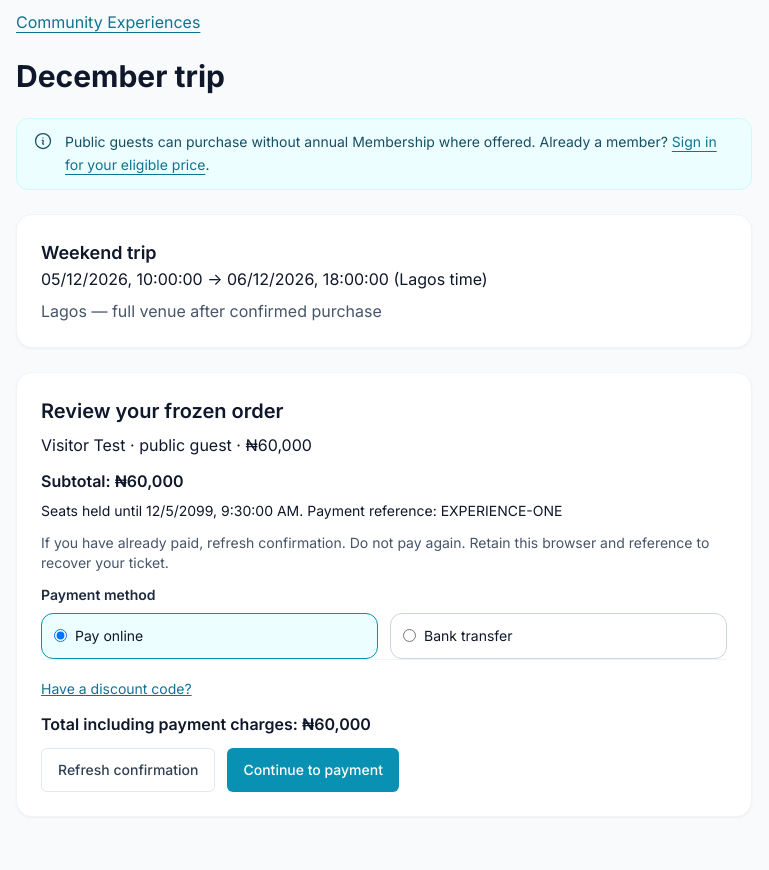
Experience ticket checkout › offers bank transfer and sends that method with the reviewed amount
The width and height of the screenshot is (769, 870).
Click the radio button labelled "Bank transfer" at (410, 636), box 403,629 -> 416,642
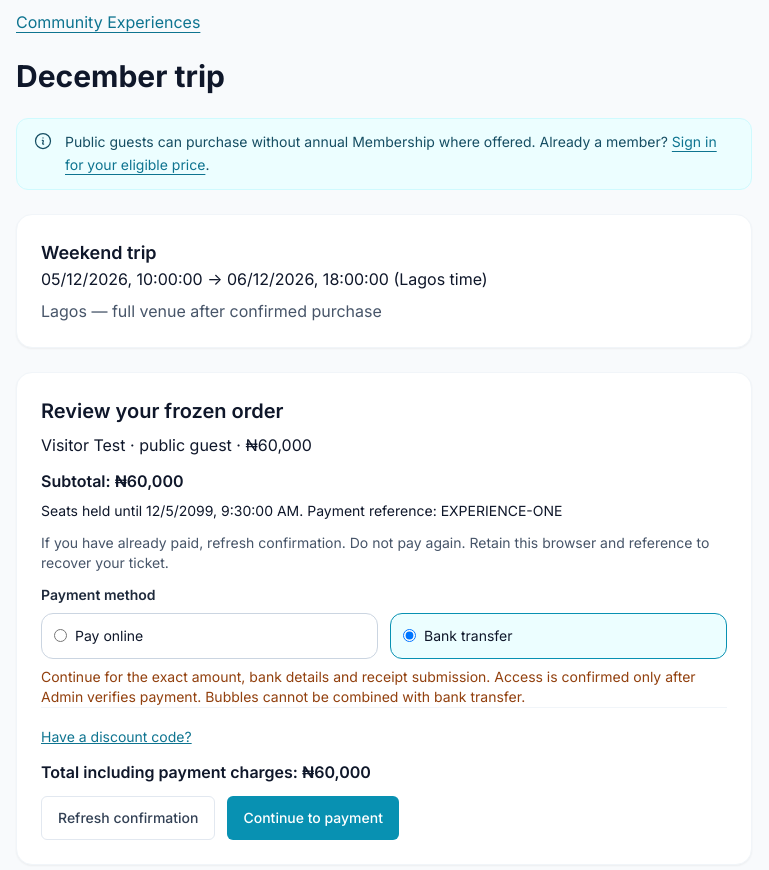
Click the button "Continue to payment" at (313, 818), box 228,796 -> 399,840
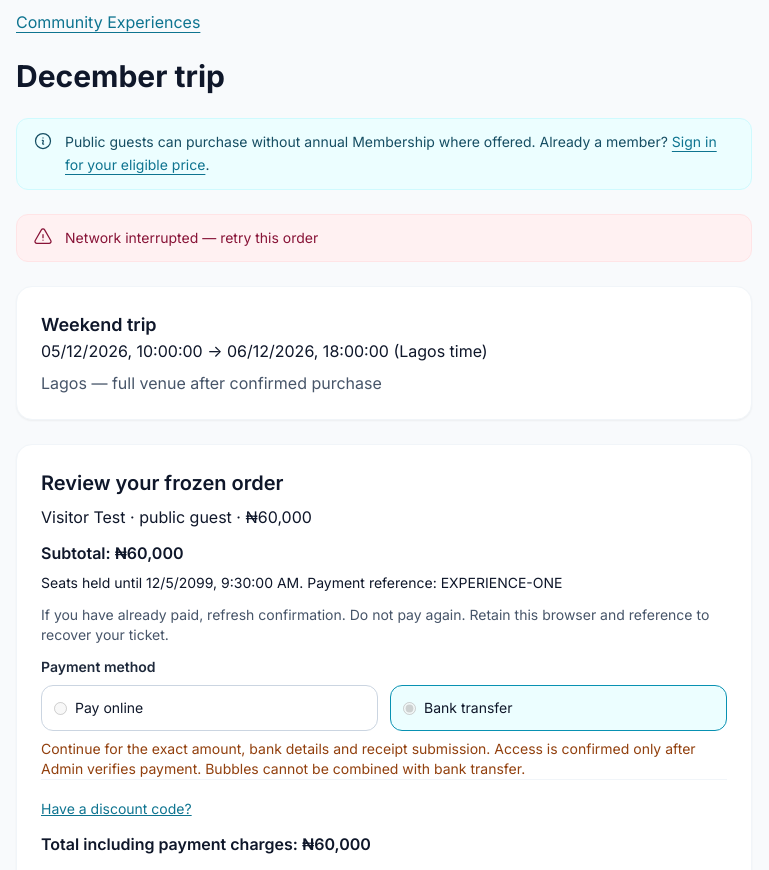
Expected: the radio button labelled "Pay online" is disabled, 54,702 -> 67,715
Result: the text "Network interrupted — retry this order" is shown at 65,226 -> 318,249
